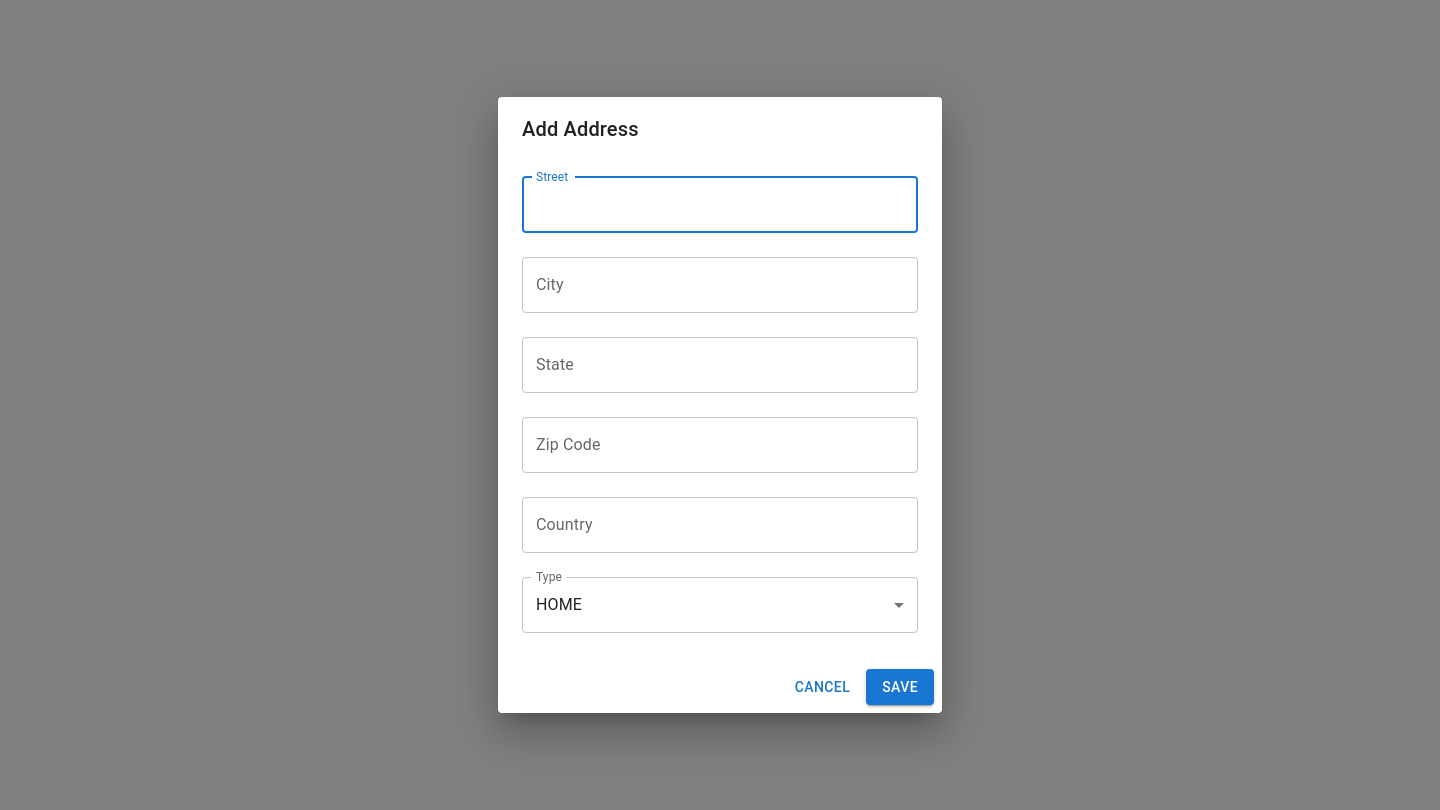
it: AddressFormDialog error paths › shows validation error when required fields are missing
Type "1 Main St" into the field labelled "Street".
click(720, 205); type("1 Main St")  # box [522,177,918,233]
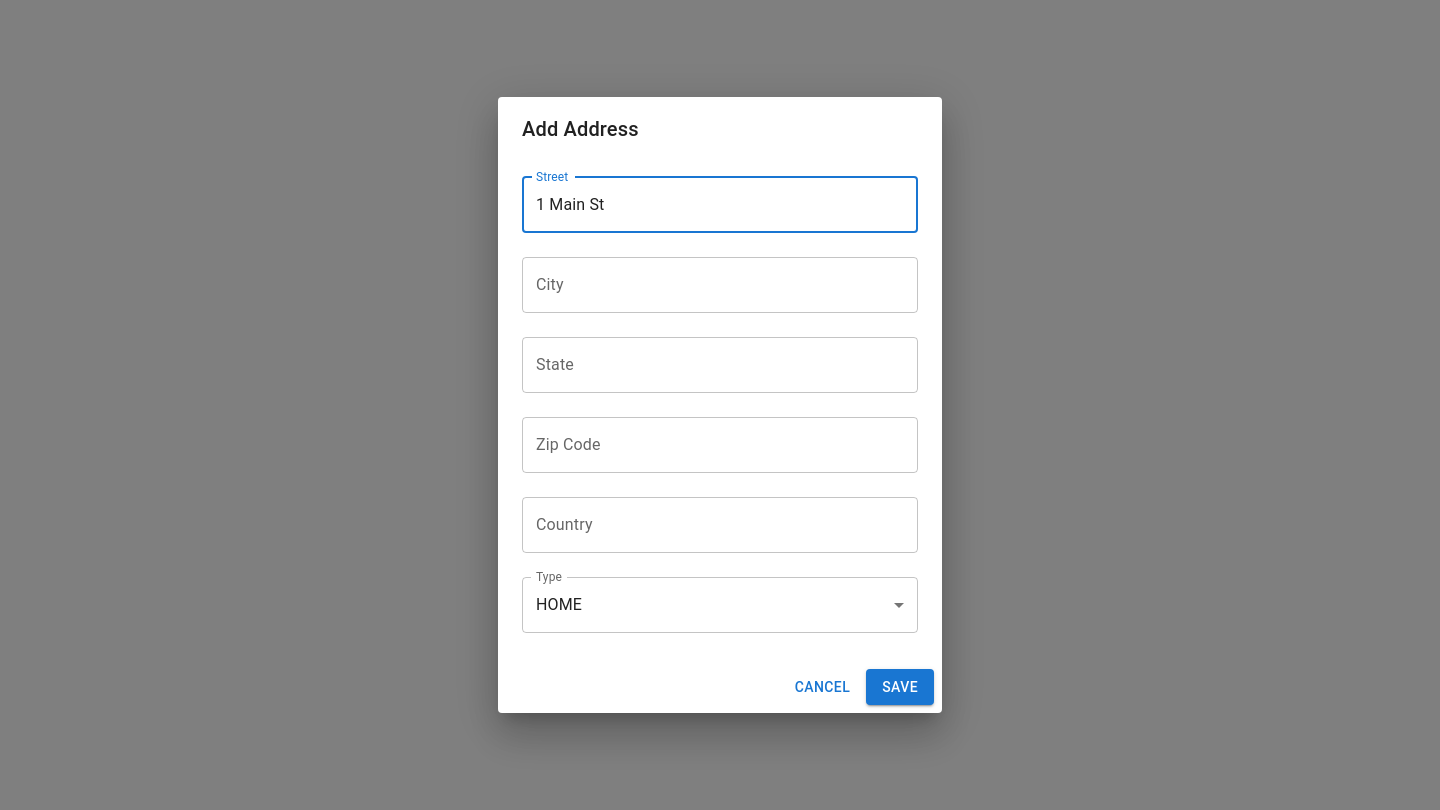
Click the button "Save".
click(900, 687)  # box [866,669,934,705]
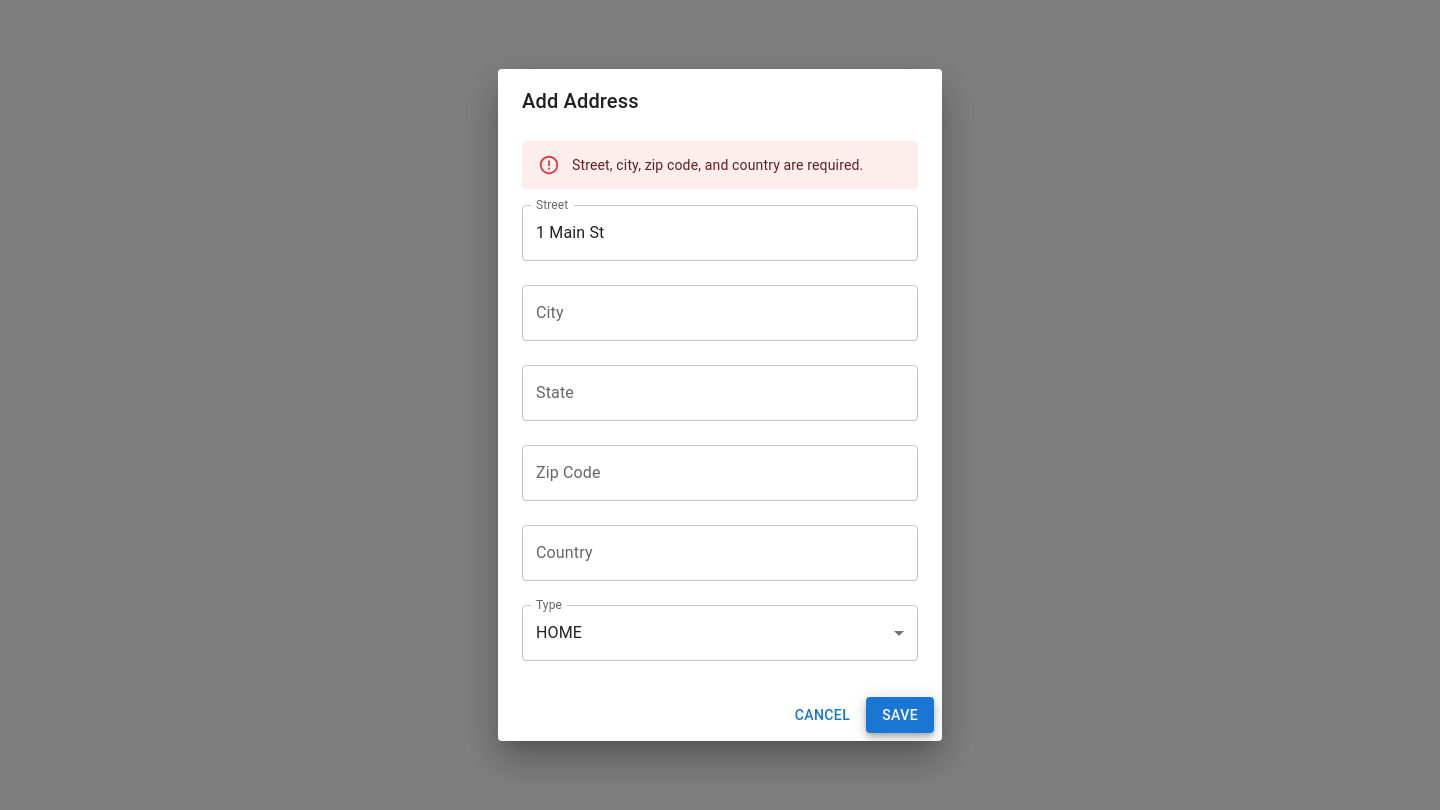
Expected: the message "Street, city, zip code, and country are required." is shown, [522,141,918,189]
